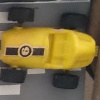carro: (2, 8, 98, 87)
